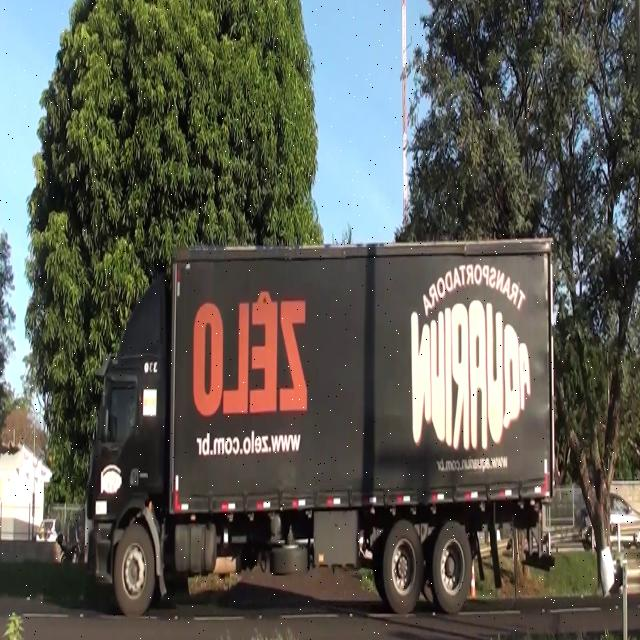-axle: (382, 520, 424, 608), (114, 523, 156, 611), (431, 521, 472, 611)
